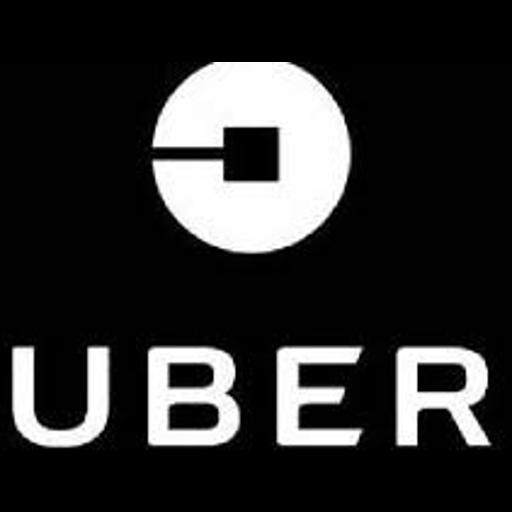Uber: (0, 62, 512, 450)
